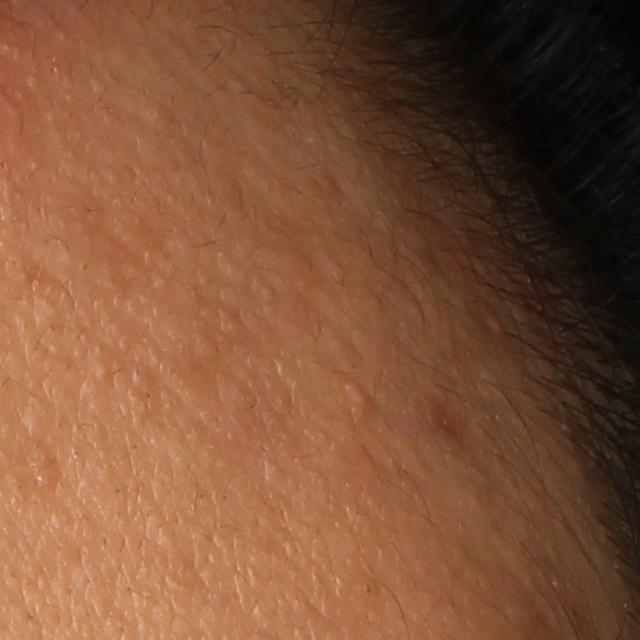comedo: (344, 376, 374, 409), (90, 358, 110, 382)
